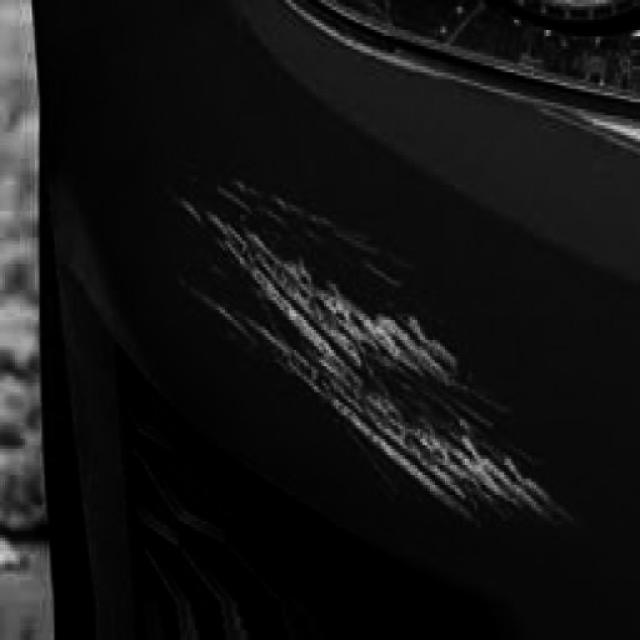car damage: (166, 181, 583, 531)
